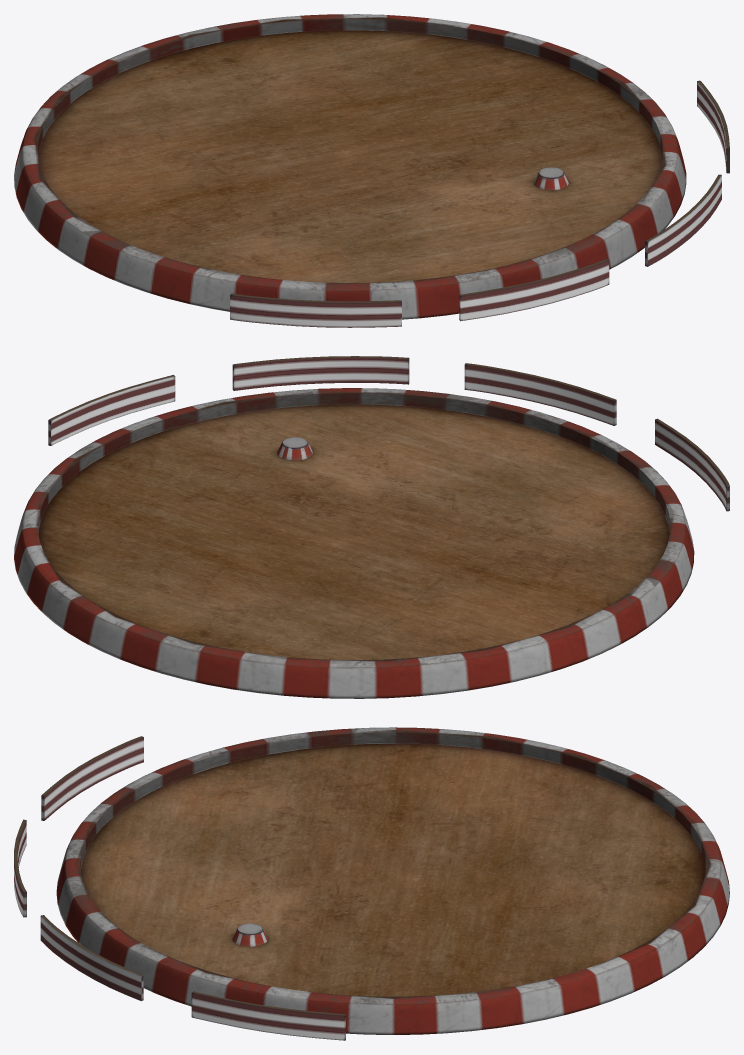
The model's file is stage.obj.
3 views of the same model, one above another, from view 1: azimuth 30°, elevation 25°; view 2: azimuth 150°, elevation 25°; view 3: azimuth 270°, elevation 25° (orthographic).
Visible parts, largest first — view 1: Object_6; view 2: Object_6; view 3: Object_6.
Part boxes in pixels (box(x1,y1,x2,y2)): Object_6: box(14, 14, 729, 327); Object_6: box(14, 356, 729, 698); Object_6: box(14, 727, 729, 1040).
Size of the model in its own units: 825 by 50.19 by 828.
Materials: 1 (1 with a texture image).
